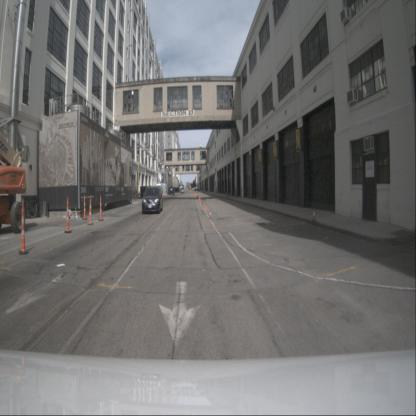cone: (19, 200, 29, 254), (64, 197, 72, 234), (87, 196, 94, 226), (98, 194, 104, 222), (82, 194, 88, 220), (312, 207, 317, 222), (208, 209, 212, 219), (204, 203, 208, 212), (202, 201, 205, 208)
